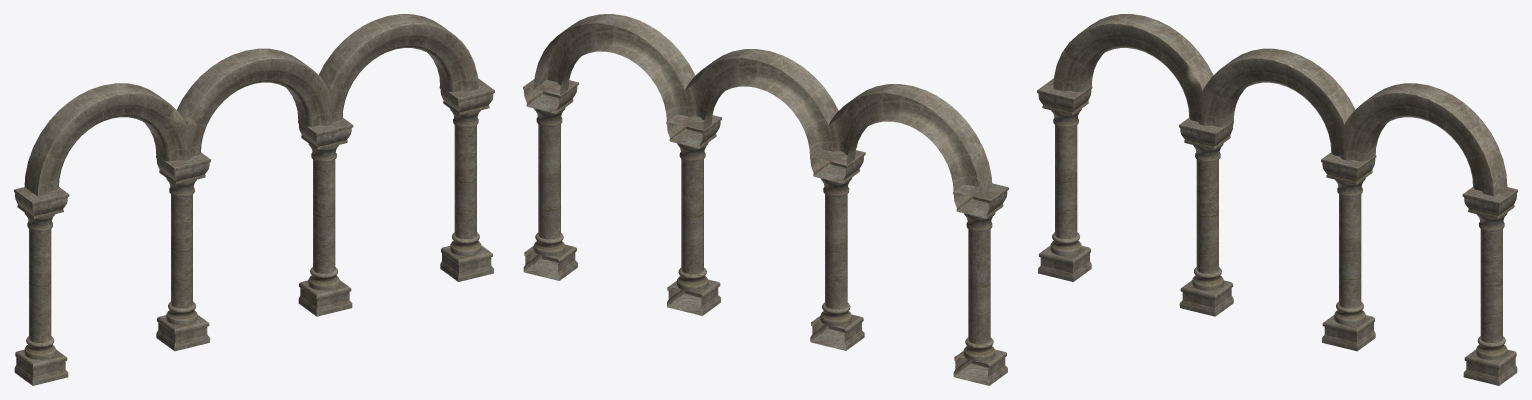
Rendered from SM_Arcade_Decor_01.fbx.
3 views of the same model, side by side, from view 1: azimuth 30°, elevation 25°; view 2: azimuth 150°, elevation 25°; view 3: azimuth 330°, elevation 25° (orthographic).
Visible parts, largest first — view 1: SM_Arcade_Decor_01_LOD0; view 2: SM_Arcade_Decor_01_LOD0; view 3: SM_Arcade_Decor_01_LOD0.
Boxes of the visible parts, x1,y1,x2,y2 form: SM_Arcade_Decor_01_LOD0: (14,14,494,385); SM_Arcade_Decor_01_LOD0: (523,14,1008,385); SM_Arcade_Decor_01_LOD0: (1037,14,1517,385).
Size of what is drawn, in the model's own units: 423 by 233 by 29.39.
Materials: 2 (2 with a texture image).
